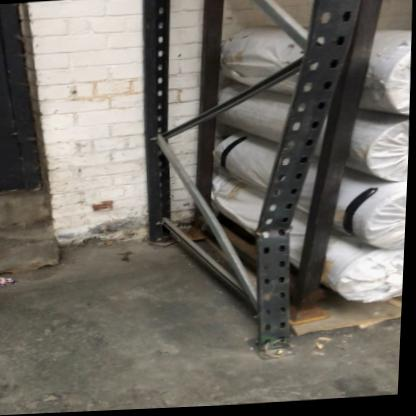vertical_damage: (242, 153, 320, 270)
